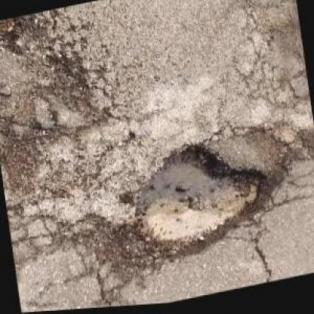Hueco: (110, 128, 287, 276)
